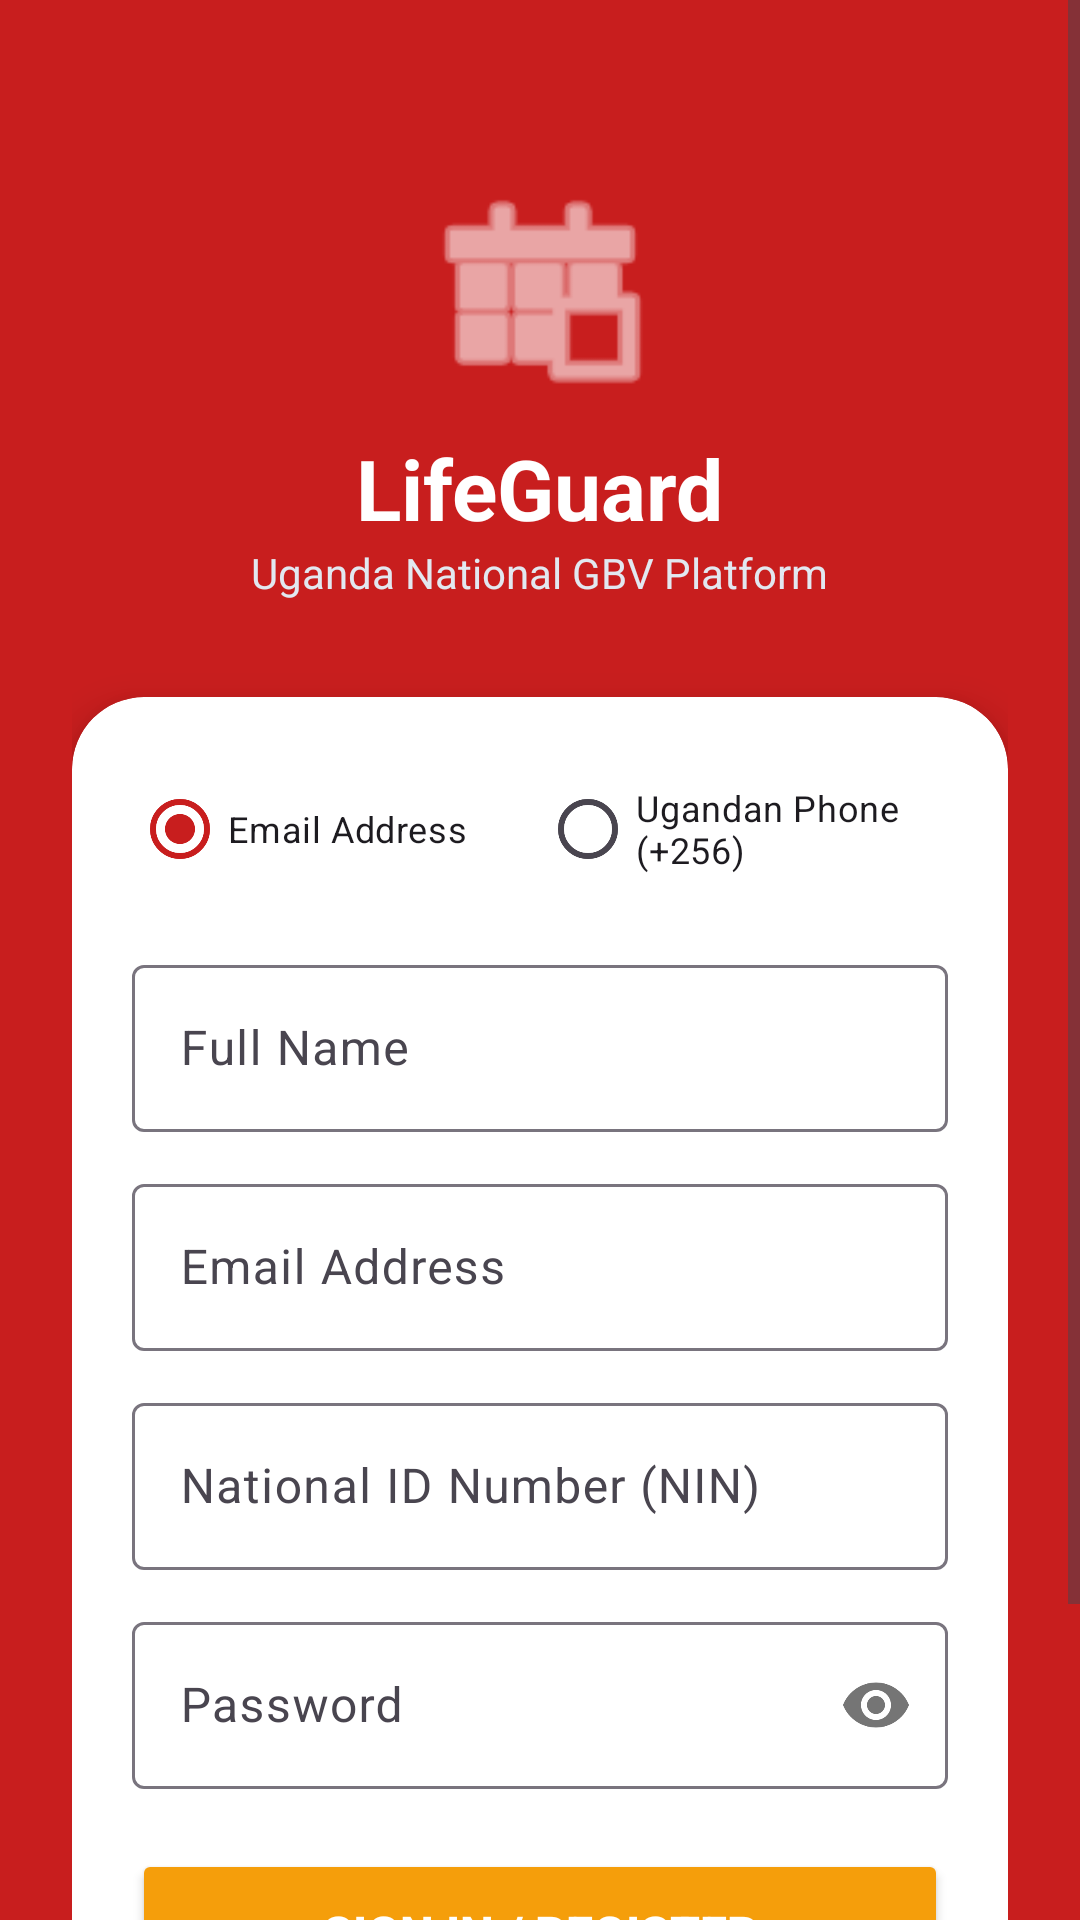

Named icons in this screenshot (1080×1920) and their bounding boxes, (x1, y1, x2, y2):
today: (444, 200, 641, 383)
